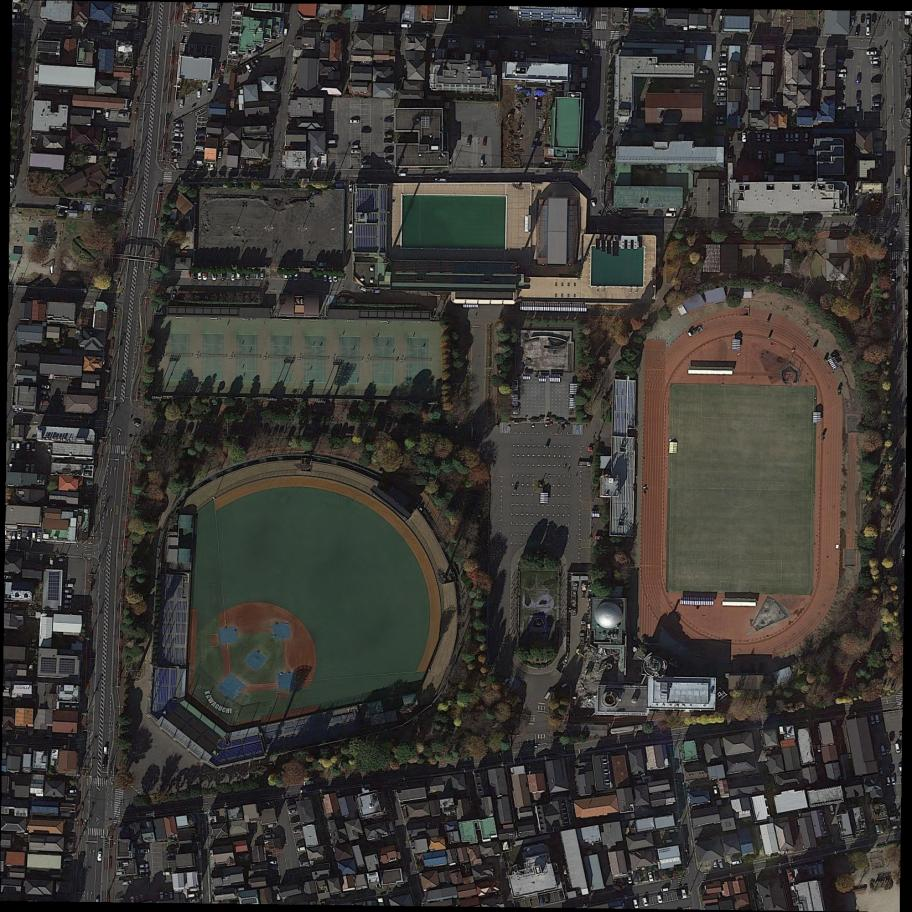small-vehicle: (357, 284, 369, 293), (131, 420, 142, 429), (544, 689, 553, 700), (642, 897, 650, 908), (303, 780, 315, 787), (656, 895, 664, 905), (292, 827, 302, 835), (681, 888, 688, 899), (633, 898, 640, 909), (894, 743, 901, 754), (648, 871, 654, 883), (718, 859, 725, 869), (880, 745, 887, 755), (538, 896, 545, 906), (97, 851, 103, 862), (576, 49, 587, 55), (717, 76, 728, 82), (371, 289, 382, 295), (732, 860, 743, 866), (137, 848, 148, 854), (829, 805, 835, 816), (246, 64, 253, 73), (717, 86, 727, 92), (666, 212, 676, 218), (836, 105, 846, 111), (869, 55, 879, 61), (886, 777, 892, 787), (765, 133, 771, 143), (663, 839, 673, 845), (892, 824, 902, 830), (122, 880, 132, 886), (139, 863, 149, 869), (300, 861, 310, 867), (288, 809, 298, 815), (250, 62, 257, 70), (348, 223, 353, 234), (628, 874, 633, 885), (758, 150, 763, 161), (265, 835, 276, 840), (196, 272, 202, 281), (108, 136, 117, 142), (269, 860, 278, 866), (217, 151, 223, 160), (291, 818, 300, 824), (193, 160, 203, 165), (64, 583, 74, 588), (37, 532, 42, 542), (718, 62, 728, 67), (118, 113, 128, 118), (174, 128, 184, 133), (203, 271, 208, 281), (384, 149, 394, 154), (892, 776, 897, 786), (742, 133, 747, 143), (713, 785, 718, 795), (713, 859, 718, 869), (795, 133, 800, 143), (591, 199, 597, 207), (211, 273, 217, 281), (385, 158, 393, 164), (297, 846, 305, 852), (362, 159, 371, 164), (520, 51, 525, 60), (41, 384, 50, 389), (245, 272, 250, 281), (231, 272, 236, 281), (221, 273, 226, 282), (94, 207, 103, 212), (872, 98, 881, 103), (167, 852, 176, 857), (172, 291, 177, 300), (159, 891, 164, 900), (871, 716, 876, 725), (875, 715, 880, 724), (866, 15, 870, 26), (867, 51, 878, 55), (173, 147, 181, 152), (402, 24, 412, 28), (691, 83, 699, 88), (719, 67, 727, 72), (717, 97, 727, 101), (717, 102, 727, 106), (717, 117, 727, 121), (350, 120, 360, 124), (214, 16, 219, 24), (179, 100, 184, 108), (111, 166, 119, 171), (545, 27, 553, 32), (64, 589, 72, 594), (64, 594, 72, 599), (857, 102, 861, 112), (837, 74, 847, 78), (349, 184, 354, 192), (529, 42, 537, 47), (168, 857, 176, 862), (105, 112, 110, 120), (895, 183, 900, 191), (661, 887, 669, 892), (790, 134, 795, 142), (757, 133, 761, 143), (139, 869, 149, 873), (169, 891, 174, 899), (890, 816, 900, 820), (449, 39, 458, 43), (476, 44, 485, 48), (25, 463, 29, 472), (351, 150, 360, 154), (515, 51, 519, 60), (467, 139, 471, 148), (719, 72, 728, 76), (718, 92, 727, 96), (284, 28, 288, 37), (209, 15, 213, 24), (16, 442, 20, 451), (175, 133, 184, 137), (294, 272, 298, 281), (719, 57, 728, 61), (851, 16, 855, 25), (870, 61, 879, 65), (805, 133, 809, 142), (480, 160, 485, 167), (196, 91, 201, 98), (17, 532, 22, 539), (399, 173, 407, 177), (69, 790, 77, 794), (64, 600, 72, 604), (701, 70, 709, 74), (717, 121, 725, 125), (175, 123, 183, 127), (329, 274, 333, 282), (112, 158, 120, 162), (719, 53, 727, 57), (11, 443, 15, 451), (866, 27, 870, 35), (385, 134, 393, 138), (167, 848, 175, 852), (384, 140, 394, 143), (489, 15, 499, 18), (103, 747, 107, 754), (334, 276, 338, 283), (323, 274, 327, 281), (193, 273, 197, 280), (785, 134, 789, 141), (27, 443, 30, 452), (874, 153, 883, 156), (361, 130, 370, 133), (31, 464, 34, 473), (765, 171, 768, 180), (698, 80, 706, 83), (544, 162, 552, 165), (351, 145, 359, 148), (229, 51, 237, 54), (261, 272, 264, 280), (855, 120, 858, 128), (64, 606, 71, 609), (873, 103, 880, 106), (483, 141, 486, 147)
